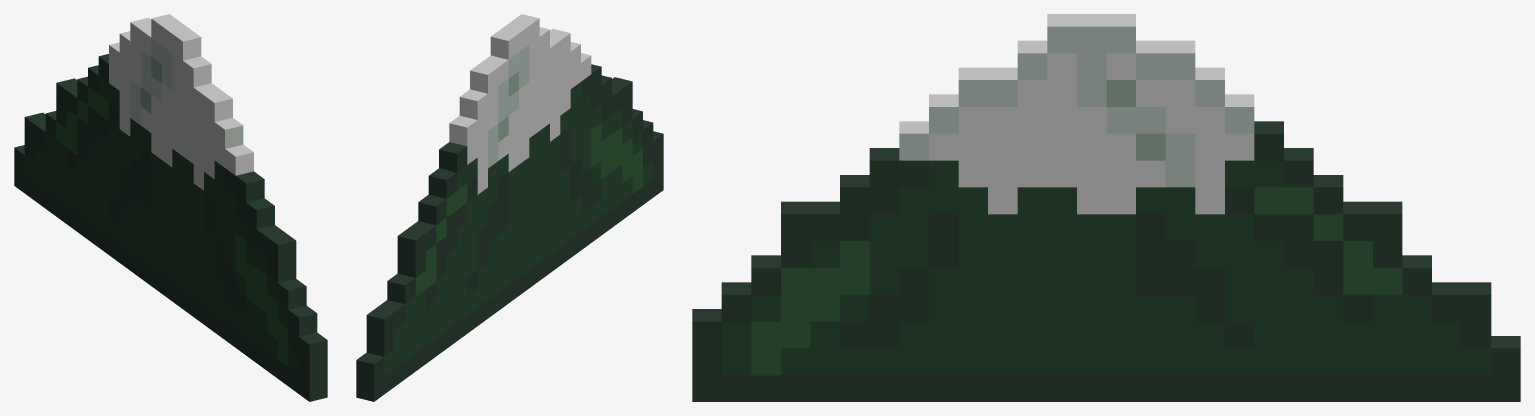
Rendered from montañaModelo.fbx.
The picture shows the model from 3 angles, left to right: view 1: azimuth 30°, elevation 25°; view 2: azimuth 150°, elevation 25°; view 3: azimuth 270°, elevation 25°; orthographic projection. The views are drawn at different scales.
Visible parts, largest first — view 1: Cube; view 2: Cube; view 3: Cube.
Boxes of the visible parts, <box> form: Cube: <box>14,14,327,401</box>; Cube: <box>356,14,663,401</box>; Cube: <box>692,14,1520,401</box>.
Bounding box in the file's own units: 100 × 1400 × 2800.
